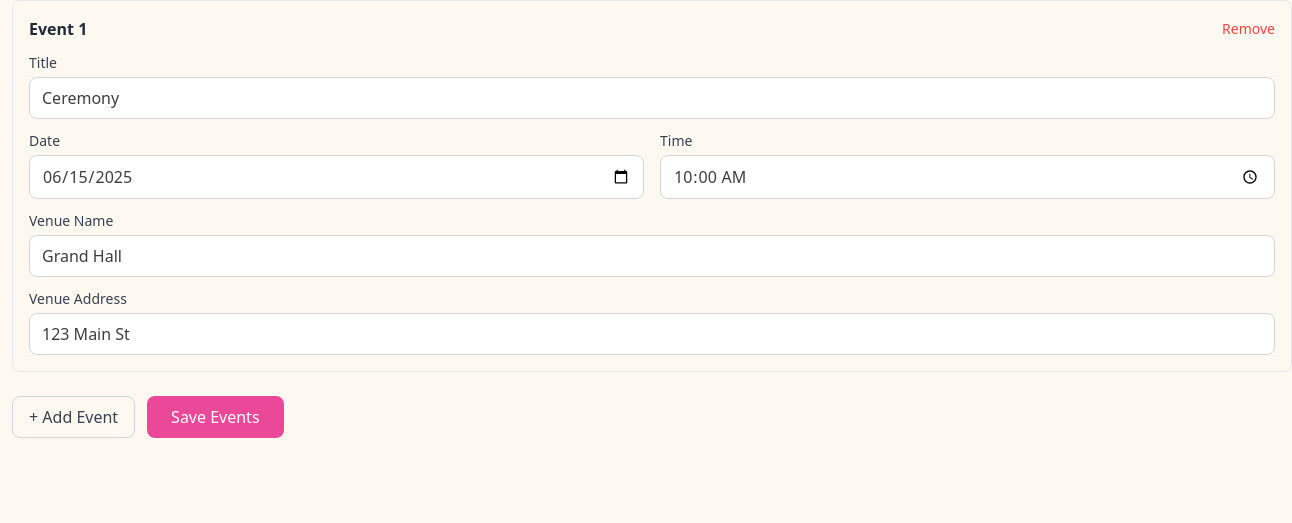
it: EventEditor › shows error feedback on network failure
Click the button "Save Events" at (215, 417), box [147, 396, 284, 438]
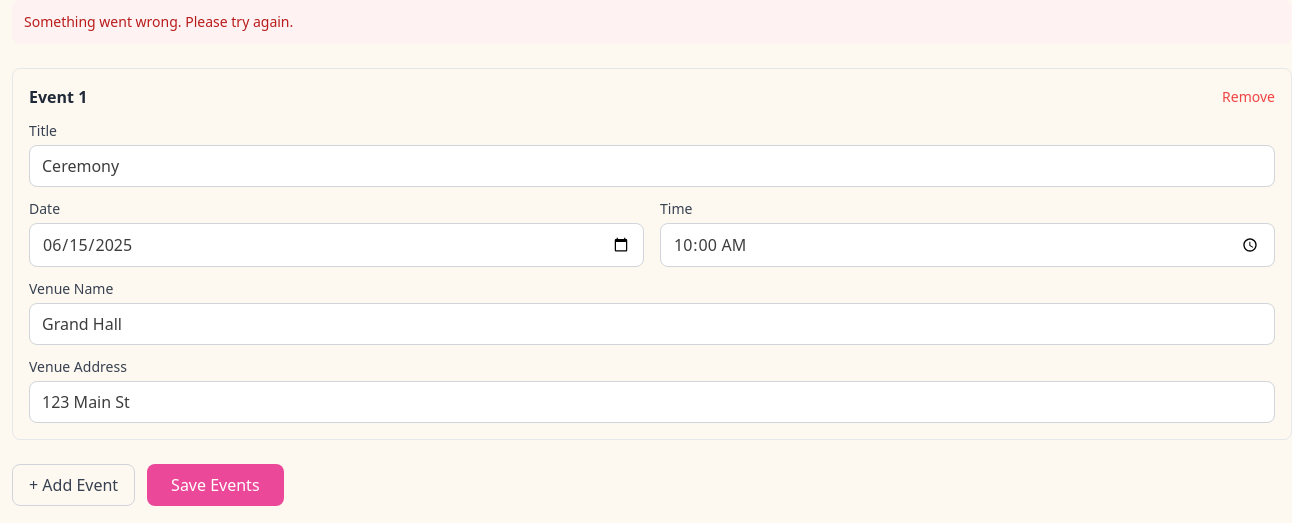
Now the message reads "Something went wrong. Please try again.", box [24, 12, 293, 31]
